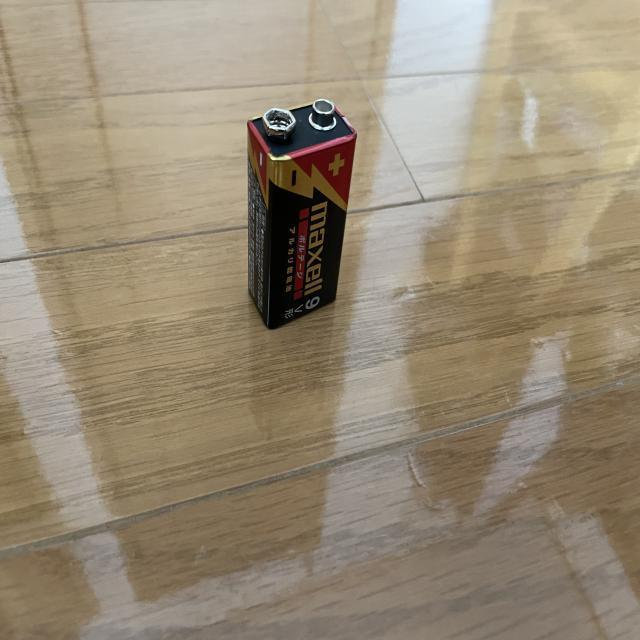9V: (247, 99, 358, 331)
